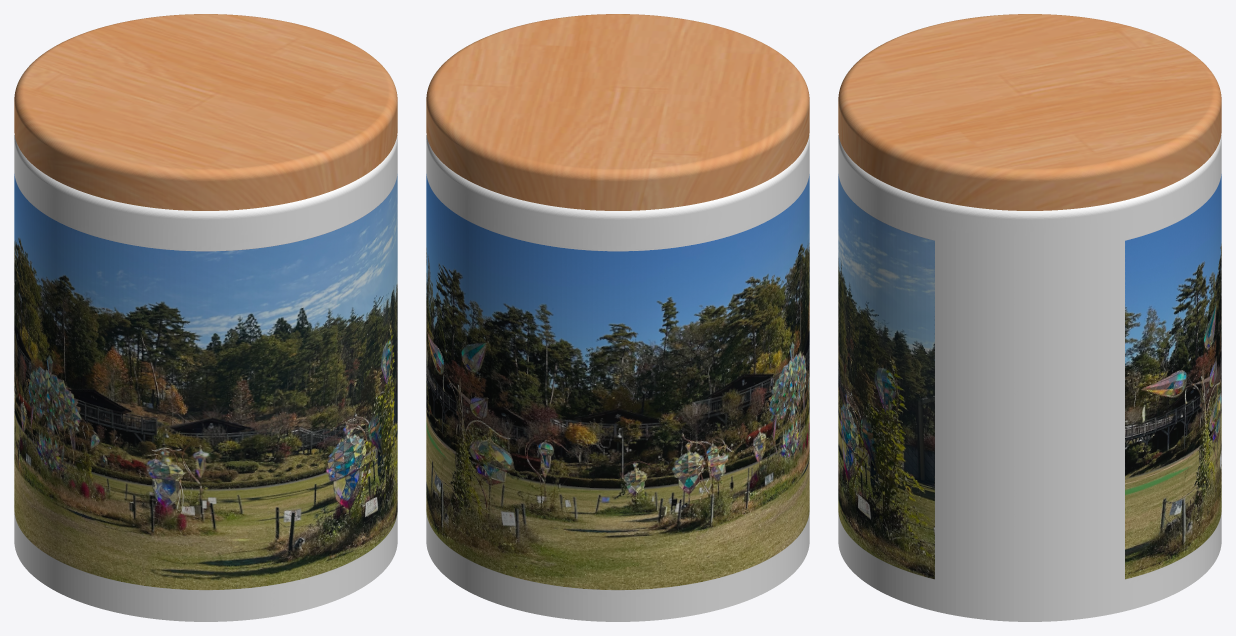
Rendered from canister.glb.
3 renders of one model, left to right at view 1: azimuth 30°, elevation 25°; view 2: azimuth 150°, elevation 25°; view 3: azimuth 270°, elevation 25°, orthographic.
Parts seen in each view (by area): view 1: Canister; view 2: Canister; view 3: Canister.
Boxes of the visible parts, bbox=[...] form: Canister: bbox=[14, 14, 397, 621]; Canister: bbox=[426, 14, 809, 621]; Canister: bbox=[838, 14, 1221, 621].
Bounding box in the file's own units: 82 × 106 × 82.
2 materials, 2 textured.
